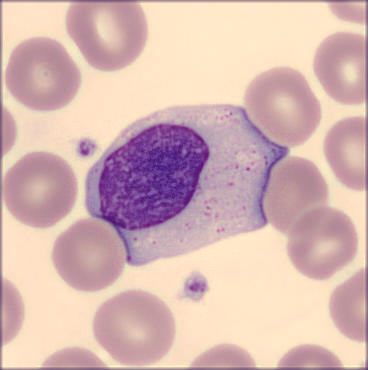WBC: (83, 101, 290, 269)
